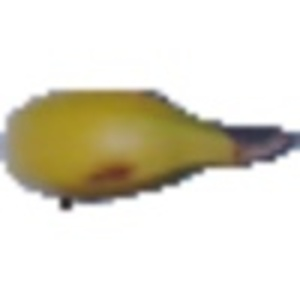banana: (2, 76, 298, 202)
